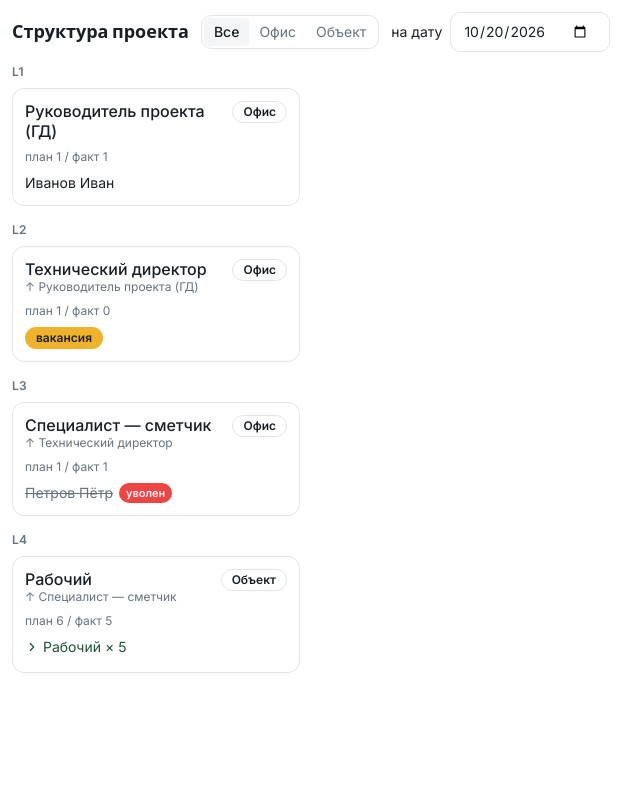
ProjectStructureSection › место с планом больше трёх свёрнуто и раскрывается по клику
The width and height of the screenshot is (627, 812).
Check: the text "Рабочий 1" is not shown
Click the button "Рабочий × 5".
click(76, 647)  # box [25,637,126,657]
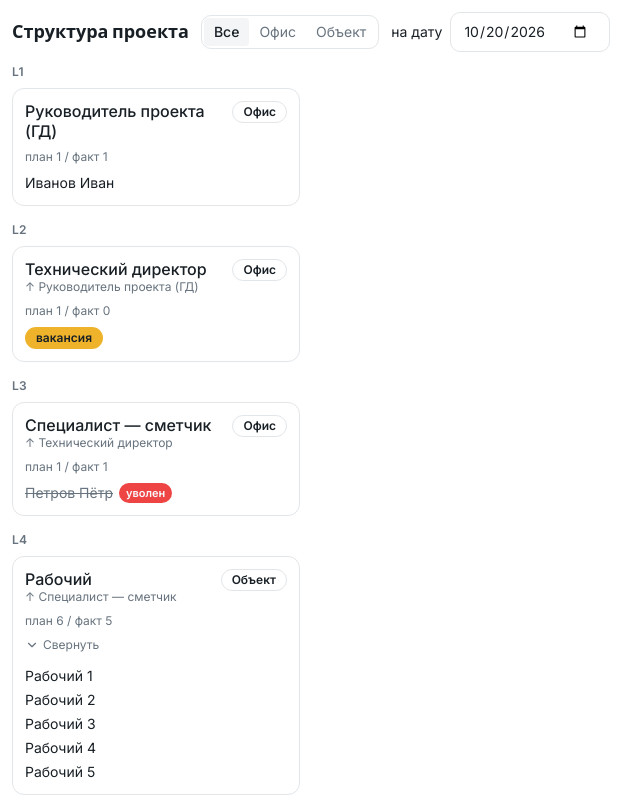
Check: the text "Рабочий 1" is shown, box [25,666,93,686]
Check: the text "Рабочий 5" is shown, box [25,762,95,782]
